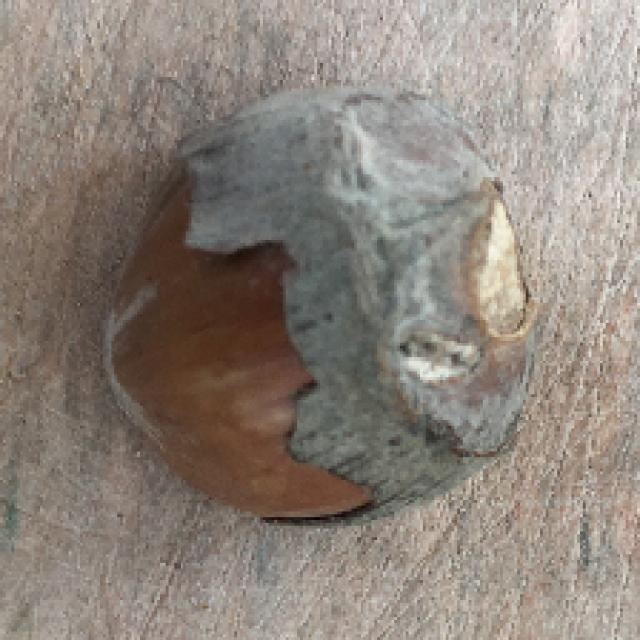damagedHazelnut: (97, 88, 537, 520)
